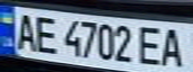0: (97, 20, 118, 61)
2: (112, 21, 136, 64)
4: (57, 17, 81, 57)
7: (78, 18, 100, 60)
A: (157, 25, 190, 69), (9, 10, 39, 52)
E: (136, 22, 166, 68), (30, 12, 60, 54)
